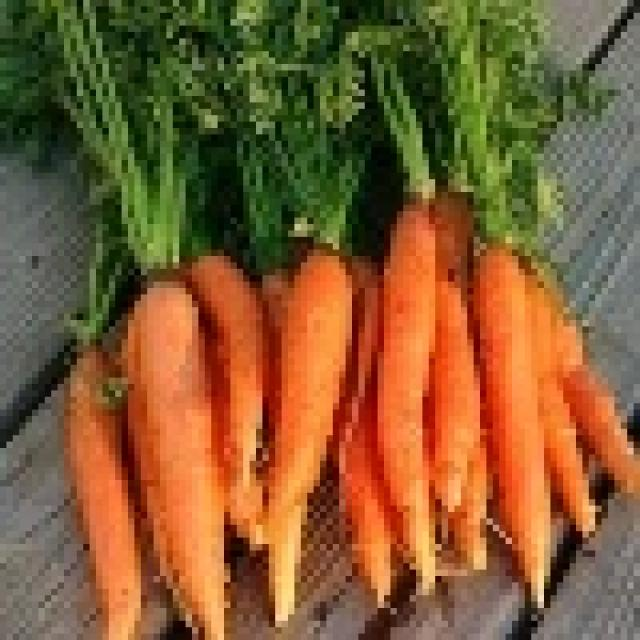Stale_Carrot: (48, 256, 160, 640)
